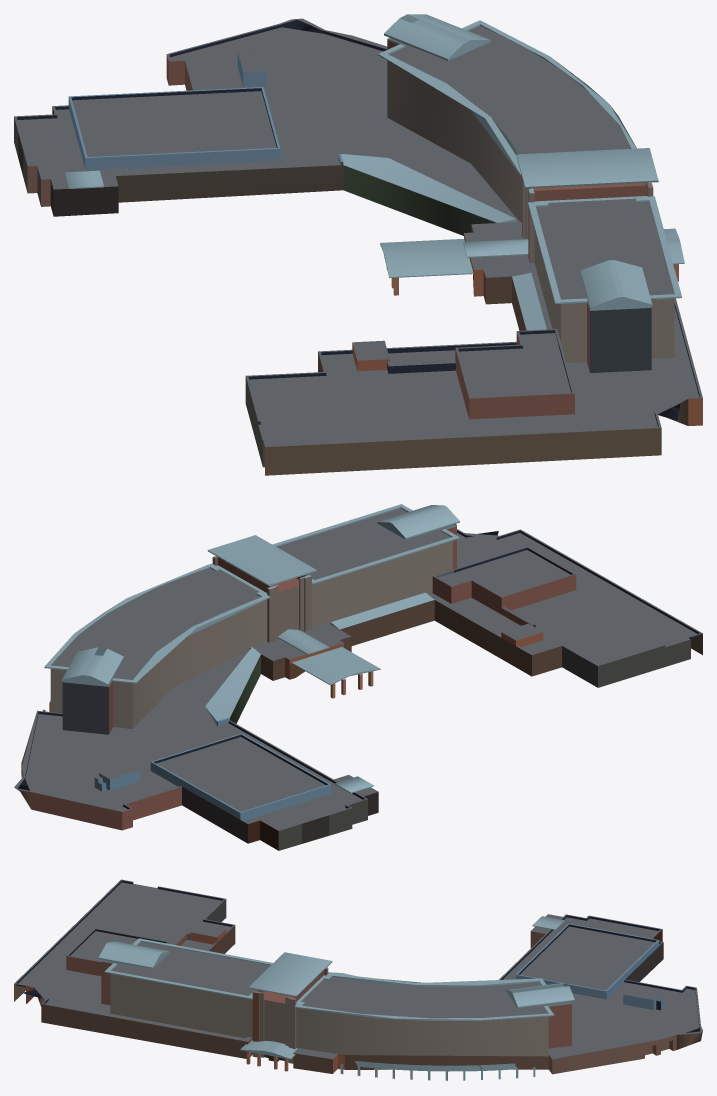
Rendered from the-chattanoogan-hotel.glb.
3 renders of one model, top to bottom at view 1: azimuth 30°, elevation 25°; view 2: azimuth 150°, elevation 25°; view 3: azimuth 270°, elevation 25°, orthographic. The views are drawn at different scales.
Visible parts, largest first — view 1: LOD0; view 2: LOD0; view 3: LOD0.
Boxes of the visible parts, box(x1,y1,x2,y2) form: LOD0: box(14, 14, 702, 475); LOD0: box(14, 504, 702, 850); LOD0: box(14, 879, 702, 1080).
Size of what is drawn, in the model's own units: 121 by 21.96 by 191.
Materials: 3 (3 with a texture image).
